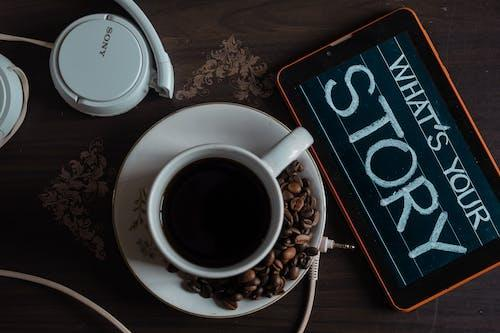Mug: (131, 109, 323, 299)
